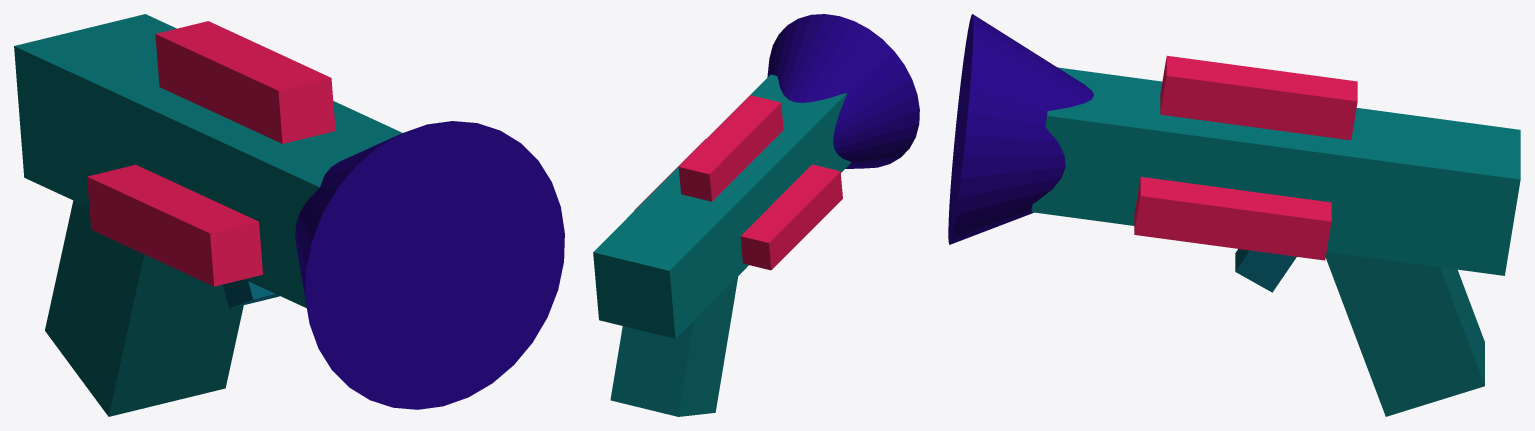
File: Gun_to_slystroyer.glb
3 views of the same model, side by side, from view 1: azimuth 30°, elevation 25°; view 2: azimuth 150°, elevation 25°; view 3: azimuth 270°, elevation 25° (orthographic). The views are drawn at different scales.
Parts seen in each view (by area): view 1: Cone; view 2: Cone; view 3: Cone.
Part boxes in pixels (bbox=[...]): Cone: bbox=[14, 14, 564, 416]; Cone: bbox=[593, 14, 919, 416]; Cone: bbox=[948, 14, 1520, 416].
Bounding box in the file's own units: 4.44 × 7.75 × 10.93.
